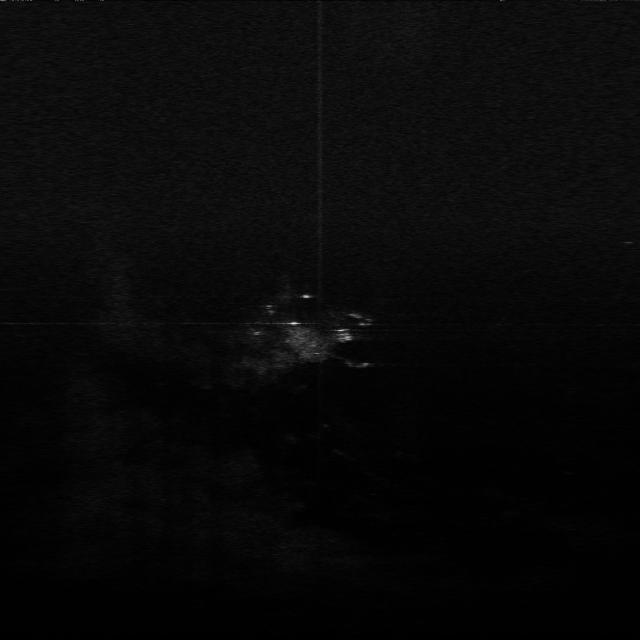rov: (332, 326, 353, 344)
